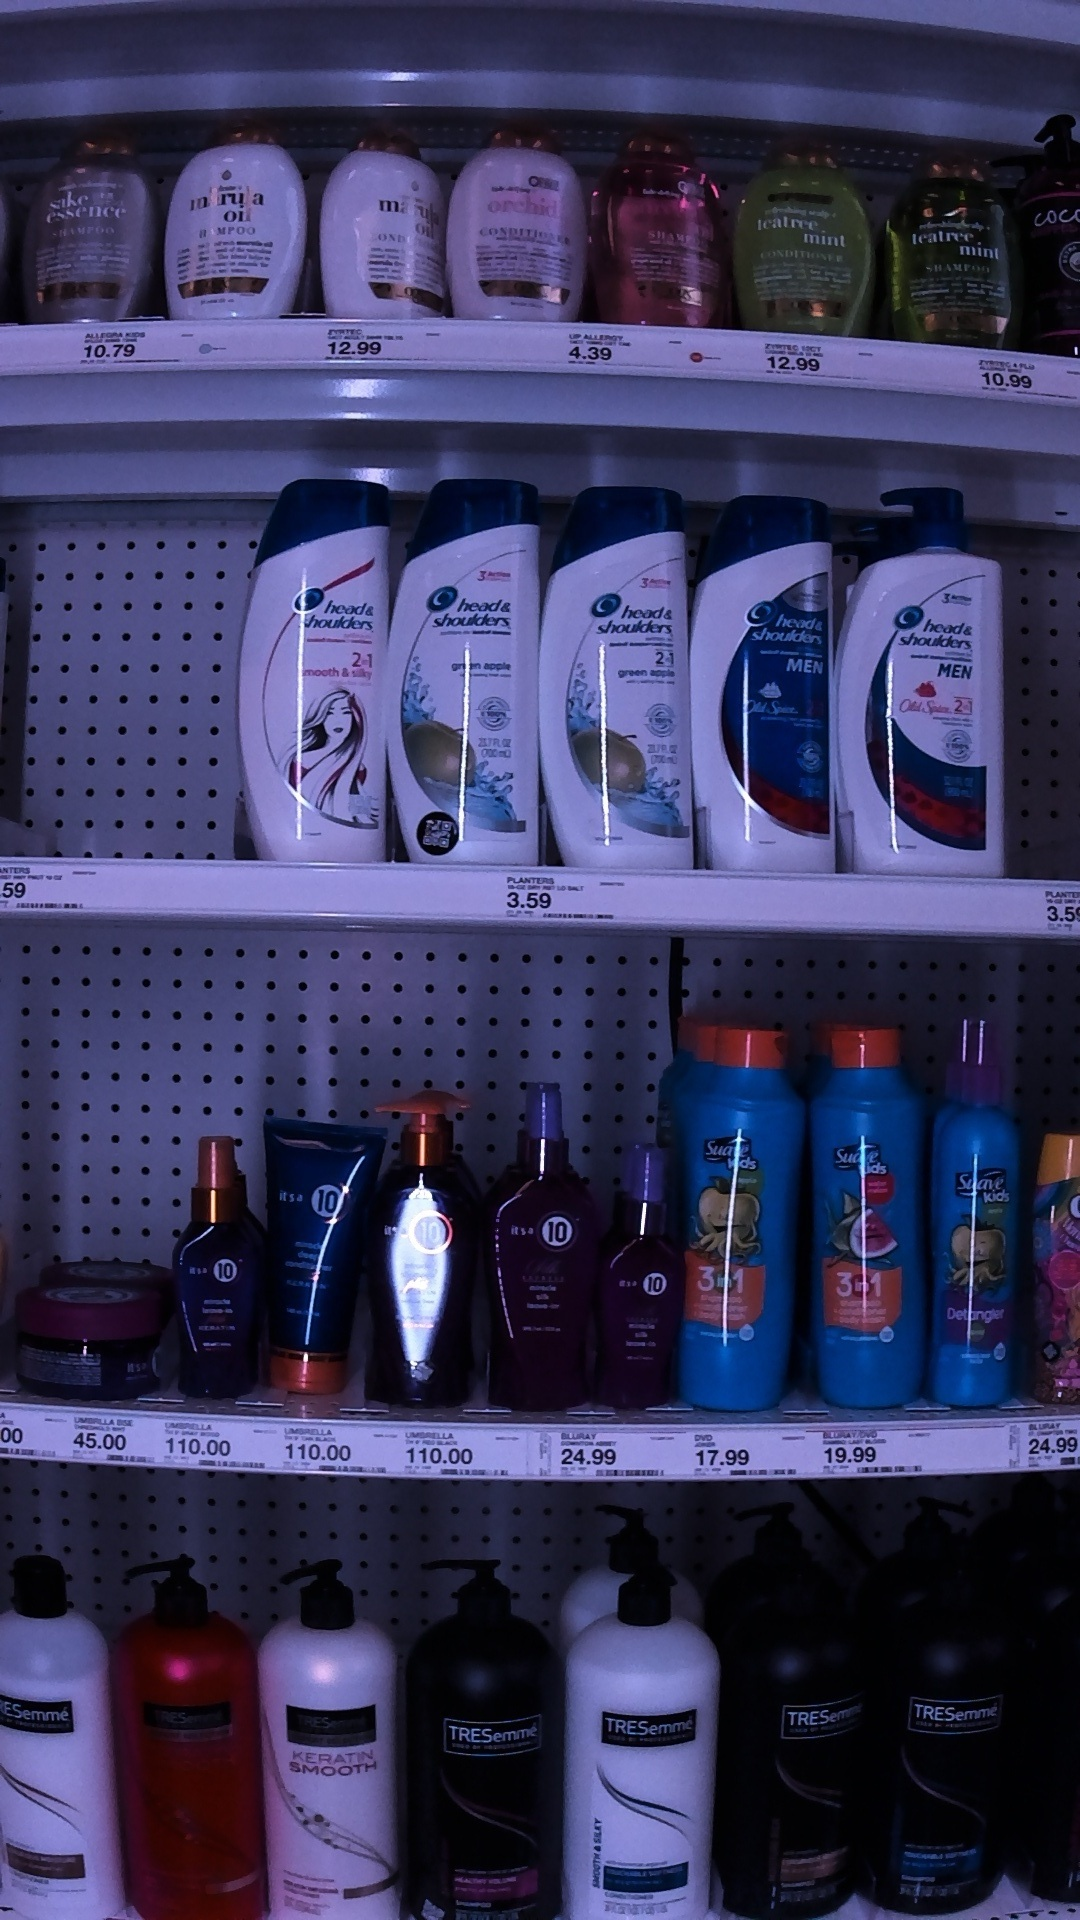ptag: (398, 1420, 529, 1489), (553, 1420, 671, 1486), (493, 872, 633, 926), (320, 316, 448, 375), (166, 1411, 273, 1480), (815, 1420, 928, 1484), (80, 322, 204, 377), (688, 1424, 791, 1489), (55, 1406, 152, 1473), (756, 335, 873, 389), (969, 349, 1071, 411), (1, 857, 104, 916), (284, 1420, 380, 1484), (560, 326, 671, 375), (1009, 1422, 1080, 1473)
